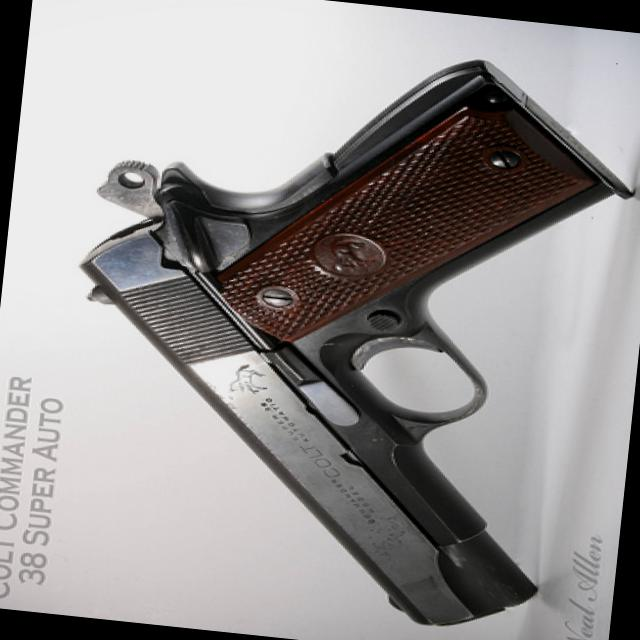handgun: (40, 20, 639, 639)
